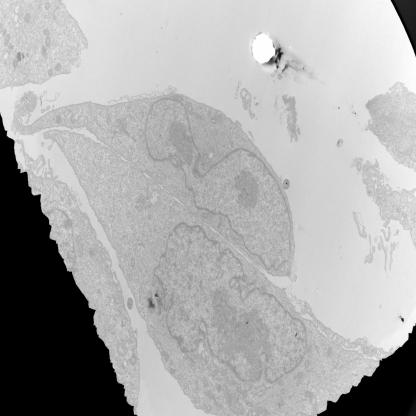mitochondria: (304, 391, 318, 416), (394, 144, 413, 158), (74, 234, 84, 258), (116, 340, 130, 356), (126, 297, 134, 311), (23, 12, 32, 24), (120, 118, 128, 131), (107, 324, 117, 333), (202, 377, 210, 388), (237, 402, 244, 414), (44, 0, 51, 12), (224, 228, 231, 239), (129, 355, 136, 366), (220, 368, 229, 376), (4, 34, 10, 46), (45, 36, 51, 48), (186, 102, 193, 112), (55, 114, 62, 124), (138, 129, 145, 139), (54, 63, 62, 71), (306, 344, 313, 353), (115, 118, 121, 128), (401, 211, 408, 219), (370, 349, 378, 356), (303, 360, 311, 367), (296, 372, 304, 379), (278, 378, 285, 386), (235, 384, 242, 392), (47, 68, 54, 76), (395, 204, 401, 213), (242, 390, 248, 399), (130, 257, 135, 267), (43, 29, 50, 36), (201, 211, 207, 219), (230, 234, 236, 242), (260, 284, 266, 292), (363, 347, 369, 355), (164, 354, 170, 362), (207, 212, 212, 221), (295, 380, 301, 387), (2, 29, 7, 37), (192, 132, 197, 140), (8, 44, 14, 50), (194, 379, 199, 386), (207, 405, 212, 412), (152, 278, 156, 286), (162, 349, 166, 357), (208, 110, 212, 118), (106, 118, 110, 124), (254, 270, 257, 276)
